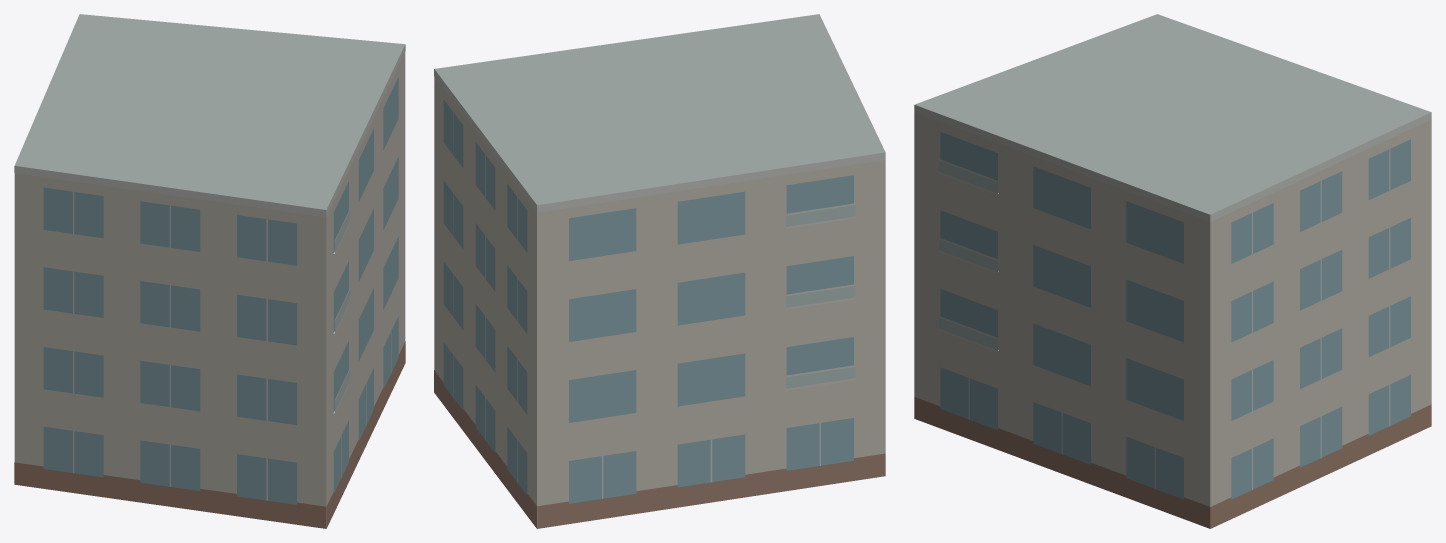
File: survey-upis-32597786.glb
The picture shows the model from 3 angles, left to right: view 1: azimuth 30°, elevation 25°; view 2: azimuth 150°, elevation 25°; view 3: azimuth 270°, elevation 25°; orthographic projection. The views are drawn at different scales.
Visible parts, largest first — view 1: survey-upis-32597786.tmp; view 2: survey-upis-32597786.tmp; view 3: survey-upis-32597786.tmp.
Part boxes in pixels (x1,y1,x2,y2): survey-upis-32597786.tmp: [14, 14, 405, 528]; survey-upis-32597786.tmp: [434, 14, 885, 528]; survey-upis-32597786.tmp: [914, 14, 1431, 528].
Size of the model in its own units: 14.68 by 10.7 by 15.98.
